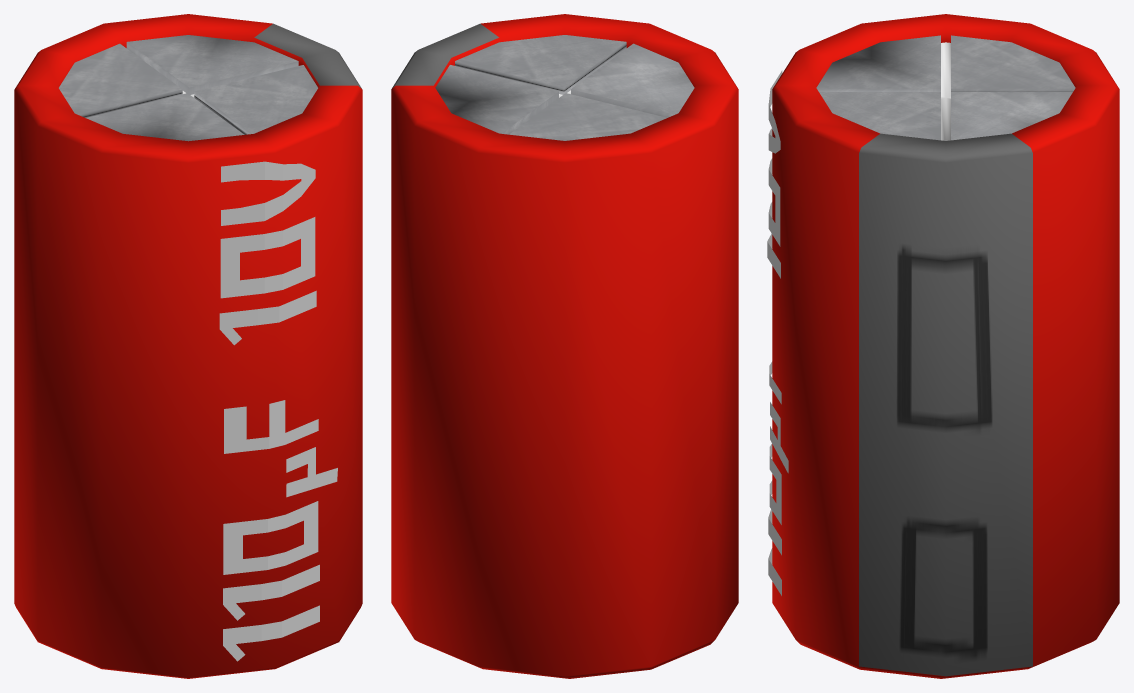
The model's file is kondensator_czerwony.fbx.
3 renders of one model, left to right at view 1: azimuth 30°, elevation 25°; view 2: azimuth 150°, elevation 25°; view 3: azimuth 270°, elevation 25°, orthographic.
Parts seen in each view (by area): view 1: Kondensator_czerwony; view 2: Kondensator_czerwony; view 3: Kondensator_czerwony.
Boxes of the visible parts, left/top/right/bottom form: Kondensator_czerwony: left=14, top=14, right=362, bottom=678; Kondensator_czerwony: left=391, top=14, right=738, bottom=678; Kondensator_czerwony: left=767, top=14, right=1119, bottom=678.
Bounding box in the file's own units: 200 × 331 × 203.
